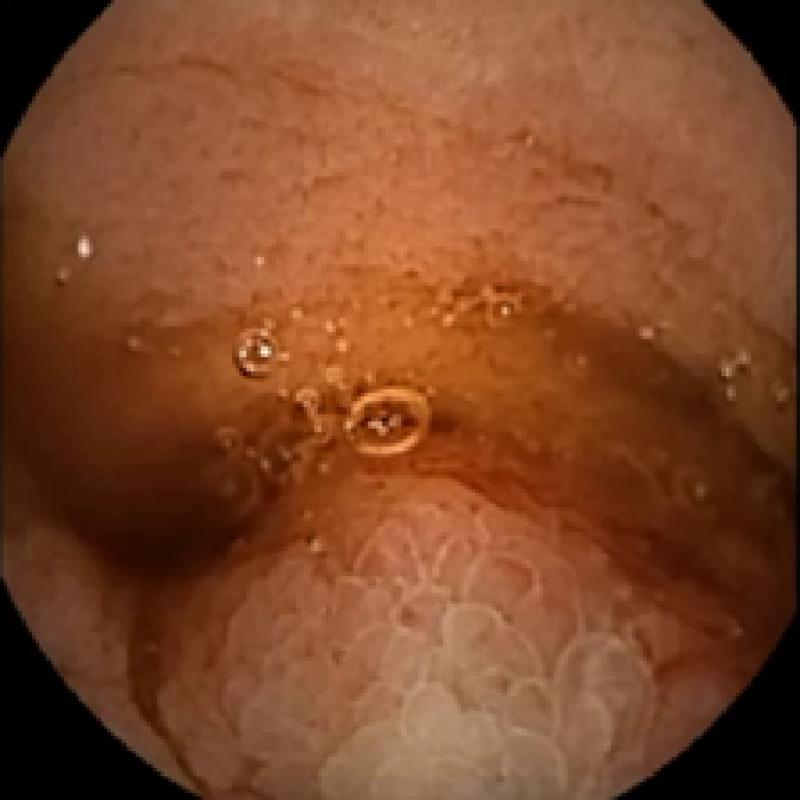bleeding: (36, 407, 768, 639)
